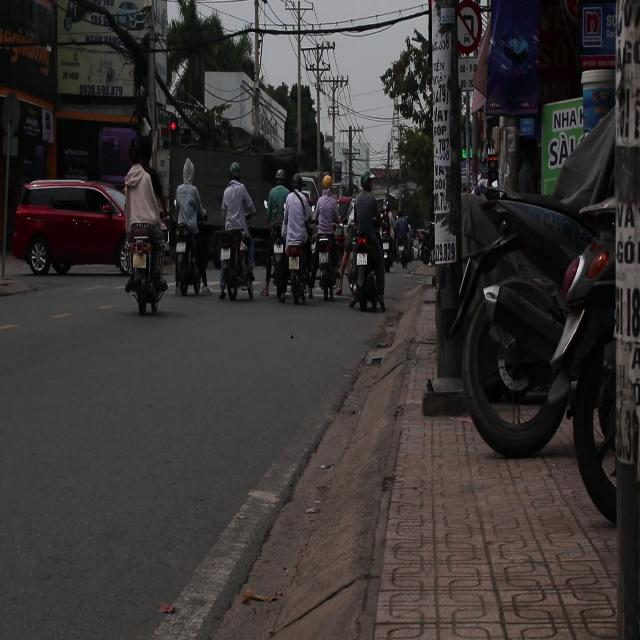car: (11, 179, 127, 276)
motorbike: (348, 222, 395, 328), (214, 213, 263, 310), (124, 228, 170, 315), (279, 218, 318, 314), (168, 212, 211, 297), (309, 220, 341, 308), (268, 212, 290, 318)
truck: (155, 149, 321, 277)
